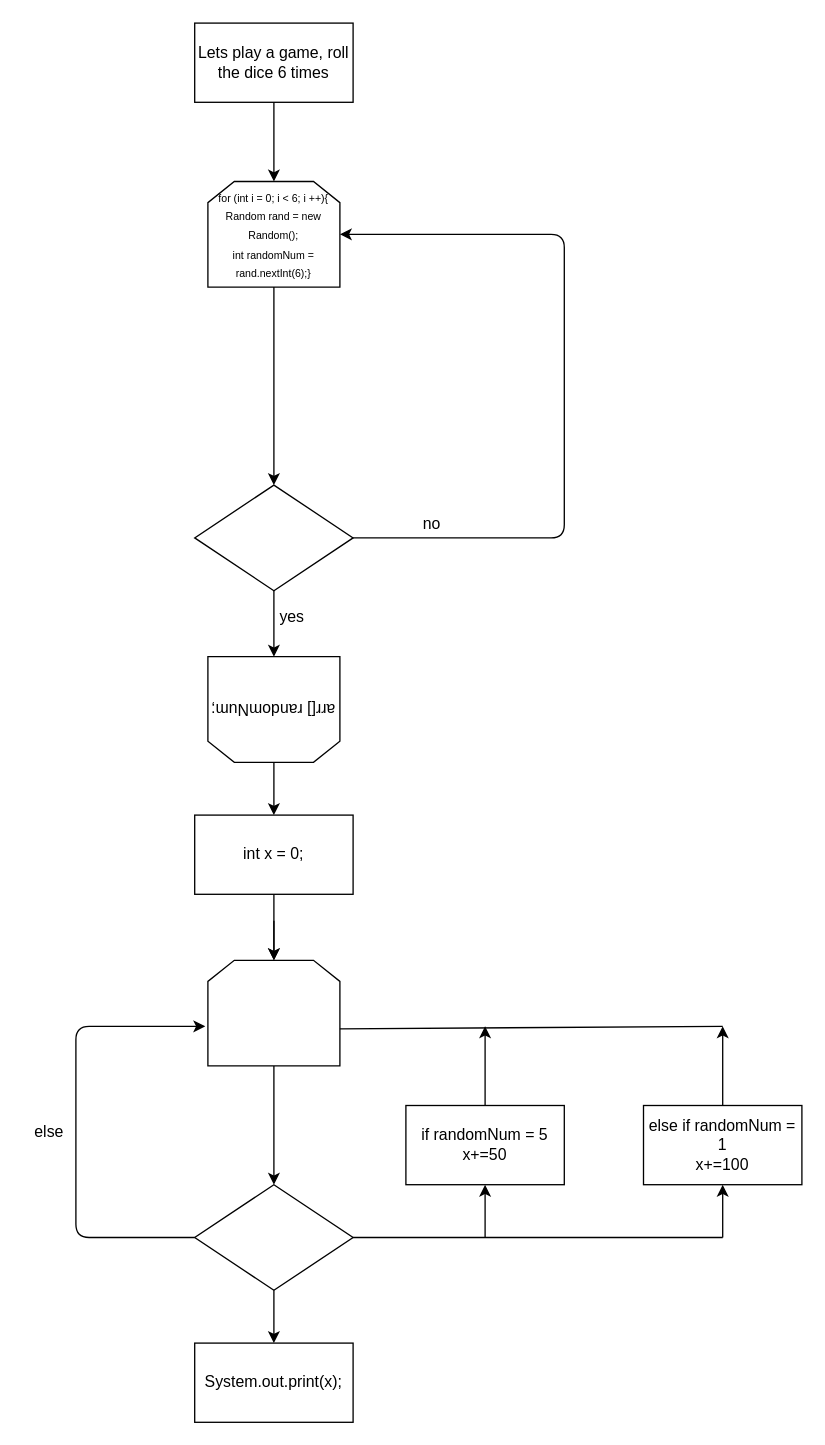
The diagram is 825 pixels wide and 1445 high, and some of its shapes have lost their labels. The shapes that lost their labels are listed below. From the top down, each one's box as (x1, y1, x2, y2) in pixels, then its label:
(193, 484, 353, 591): arr[i] = randomNum; i = 6?
(207, 959, 340, 1066): iterate through array 6 times
(193, 1183, 353, 1290): is randomNumber = 1 or 5
